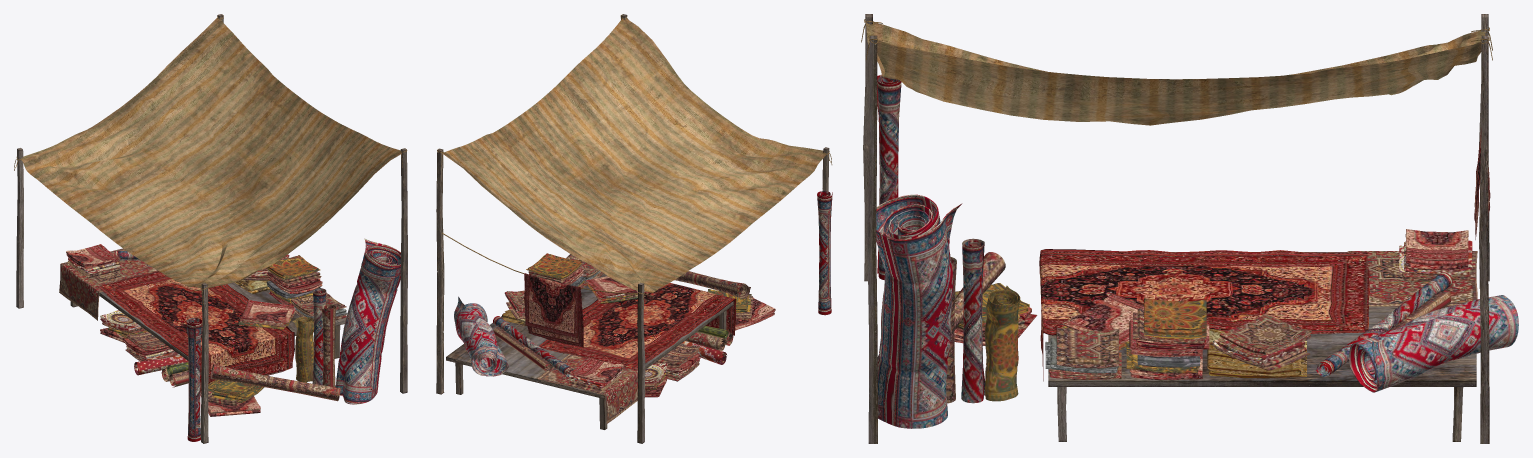
Rendered from xi_dep_carpet_shop.gltf.
3 renders of one model, left to right at view 1: azimuth 30°, elevation 25°; view 2: azimuth 150°, elevation 25°; view 3: azimuth 270°, elevation 25°, orthographic. The views are drawn at different scales.
Parts seen in each view (by area): view 1: xi_dep_carpet_shop; view 2: xi_dep_carpet_shop; view 3: xi_dep_carpet_shop.
Part boxes in pixels (x1,y1,x2,y2): xi_dep_carpet_shop: (14, 14, 407, 443); xi_dep_carpet_shop: (436, 14, 832, 443); xi_dep_carpet_shop: (861, 14, 1518, 443).
Size of the model in its own units: 3.47 by 3.56 by 5.16.
Materials: 3 (3 with a texture image).
